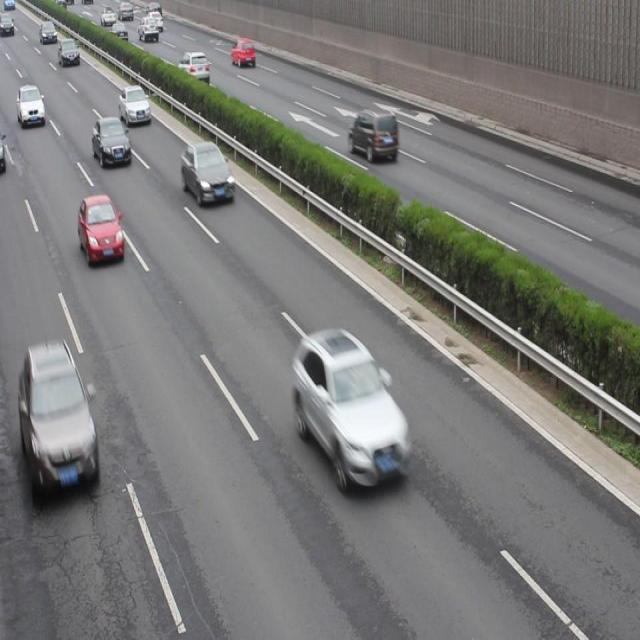car: (294, 330, 411, 491), (20, 345, 96, 492), (180, 140, 234, 204), (77, 194, 124, 266), (347, 107, 397, 162), (92, 118, 131, 164), (17, 84, 46, 126), (120, 85, 150, 124), (177, 51, 210, 84), (231, 37, 254, 66), (58, 37, 80, 65), (138, 16, 158, 42)
